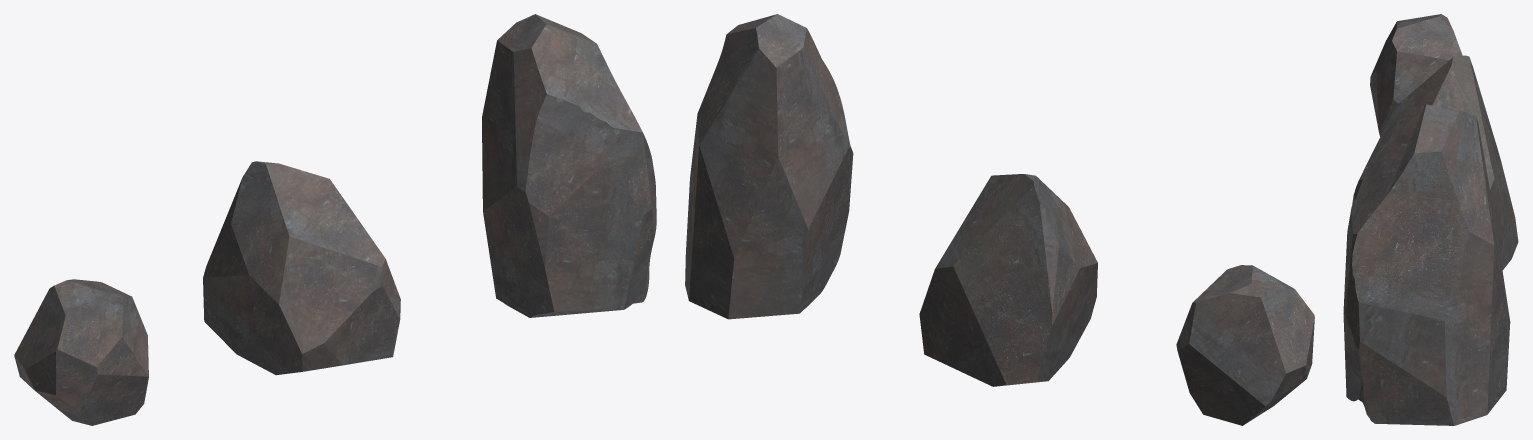
Rendered from 3rocherMcCouille.fbx.
The picture shows the model from 3 angles, left to right: view 1: azimuth 30°, elevation 25°; view 2: azimuth 150°, elevation 25°; view 3: azimuth 270°, elevation 25°; orthographic projection. The views are drawn at different scales.
Visible parts, largest first — view 1: GrandRocherLow, MoyenRocherLow, PetitRocherLow; view 2: GrandRocherLow, MoyenRocherLow, PetitRocherLow; view 3: GrandRocherLow, MoyenRocherLow, PetitRocherLow.
Boxes of the visible parts, x1,y1,x2,y2 form: GrandRocherLow: (482, 14, 656, 317); MoyenRocherLow: (203, 161, 400, 375); PetitRocherLow: (14, 279, 148, 425); GrandRocherLow: (685, 14, 853, 319); MoyenRocherLow: (919, 174, 1097, 386); PetitRocherLow: (1176, 265, 1314, 425); GrandRocherLow: (1343, 104, 1510, 425); MoyenRocherLow: (1352, 55, 1518, 270); PetitRocherLow: (1370, 14, 1462, 136).
Size of the model in its own units: 717 by 316 by 176.
3 materials, 3 textured.
